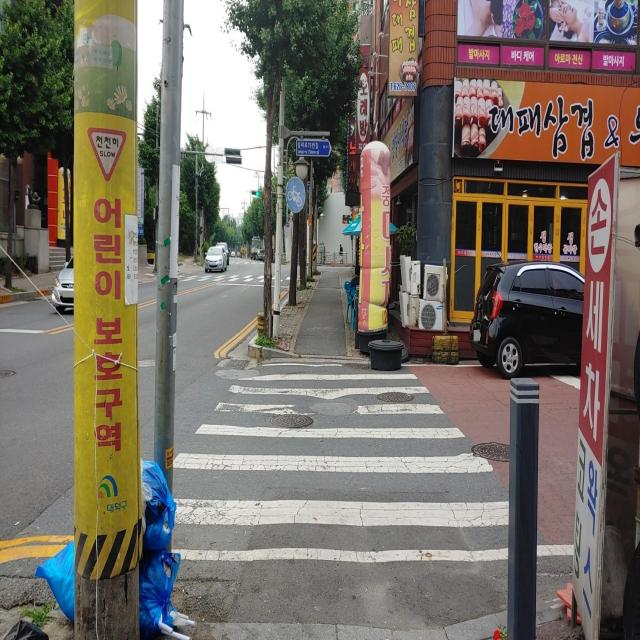횡단보도: (170, 372, 510, 564), (178, 272, 289, 282)
